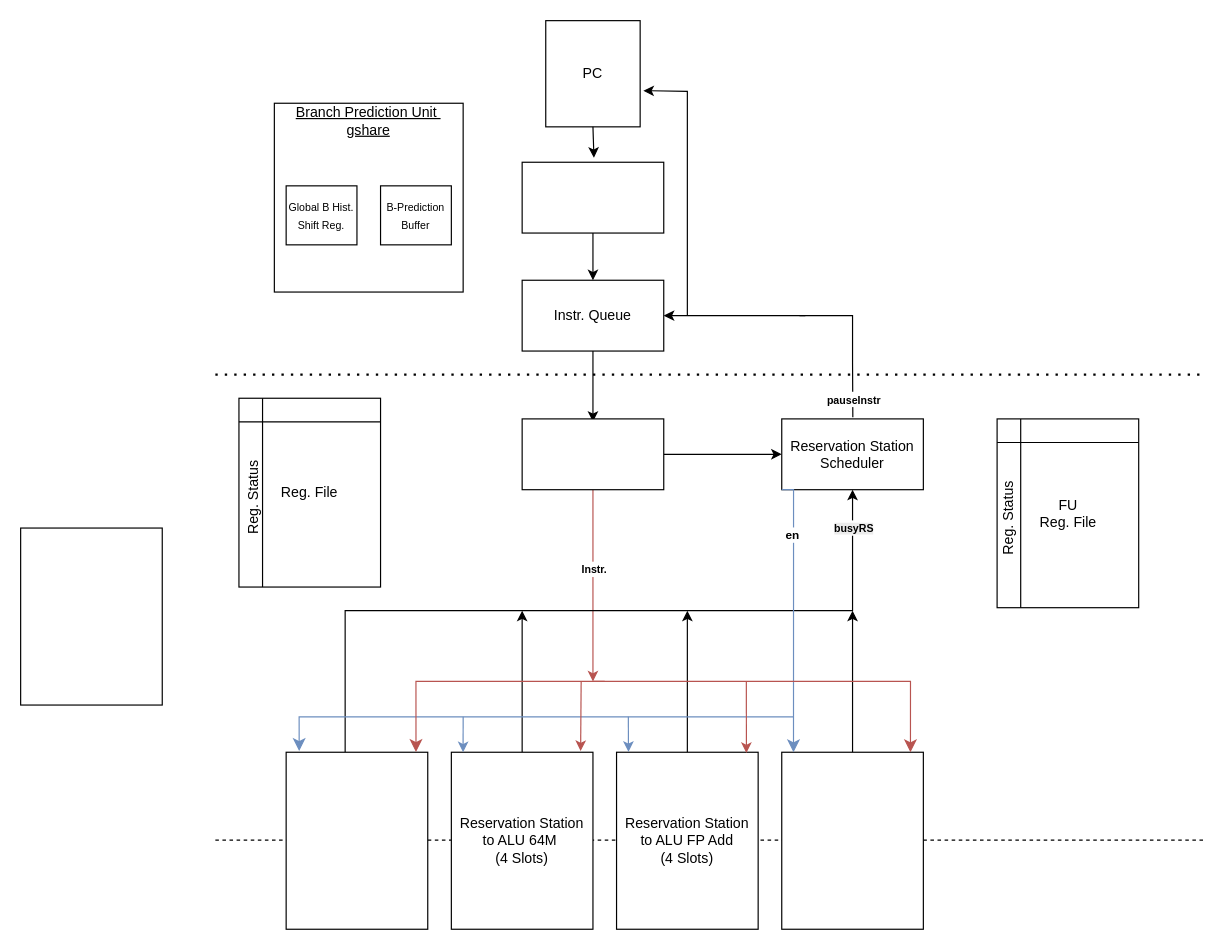
The diagram is 1230 pixels wide and 950 high, and some of its shapes have lost their labels. Here are the shapes that lost their labels. From the top down, the centre of each, then its label:
At (592,197): "Instr. Mem".
At (592,454): "Instruction Decoder".
At (90,616): "Reservation Station to AGU".
At (356,840): "Reservation Station to ALU 64I (8 Slots)".
At (852,840): "Reservation Station to ALU FP Mul (4 Slots)".
